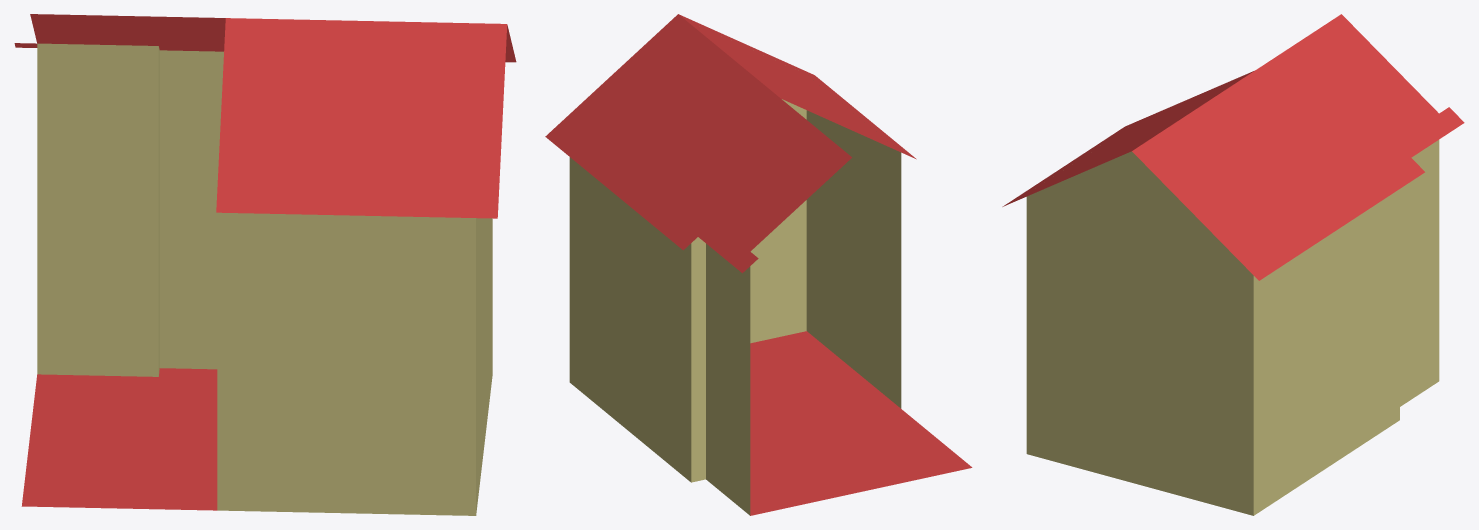
The picture shows the model from 3 angles, left to right: view 1: azimuth 30°, elevation 25°; view 2: azimuth 150°, elevation 25°; view 3: azimuth 270°, elevation 25°; orthographic projection. The views are drawn at different scales.
Bounding box in the file's own units: 13.05 × 12.57 × 10.2.
